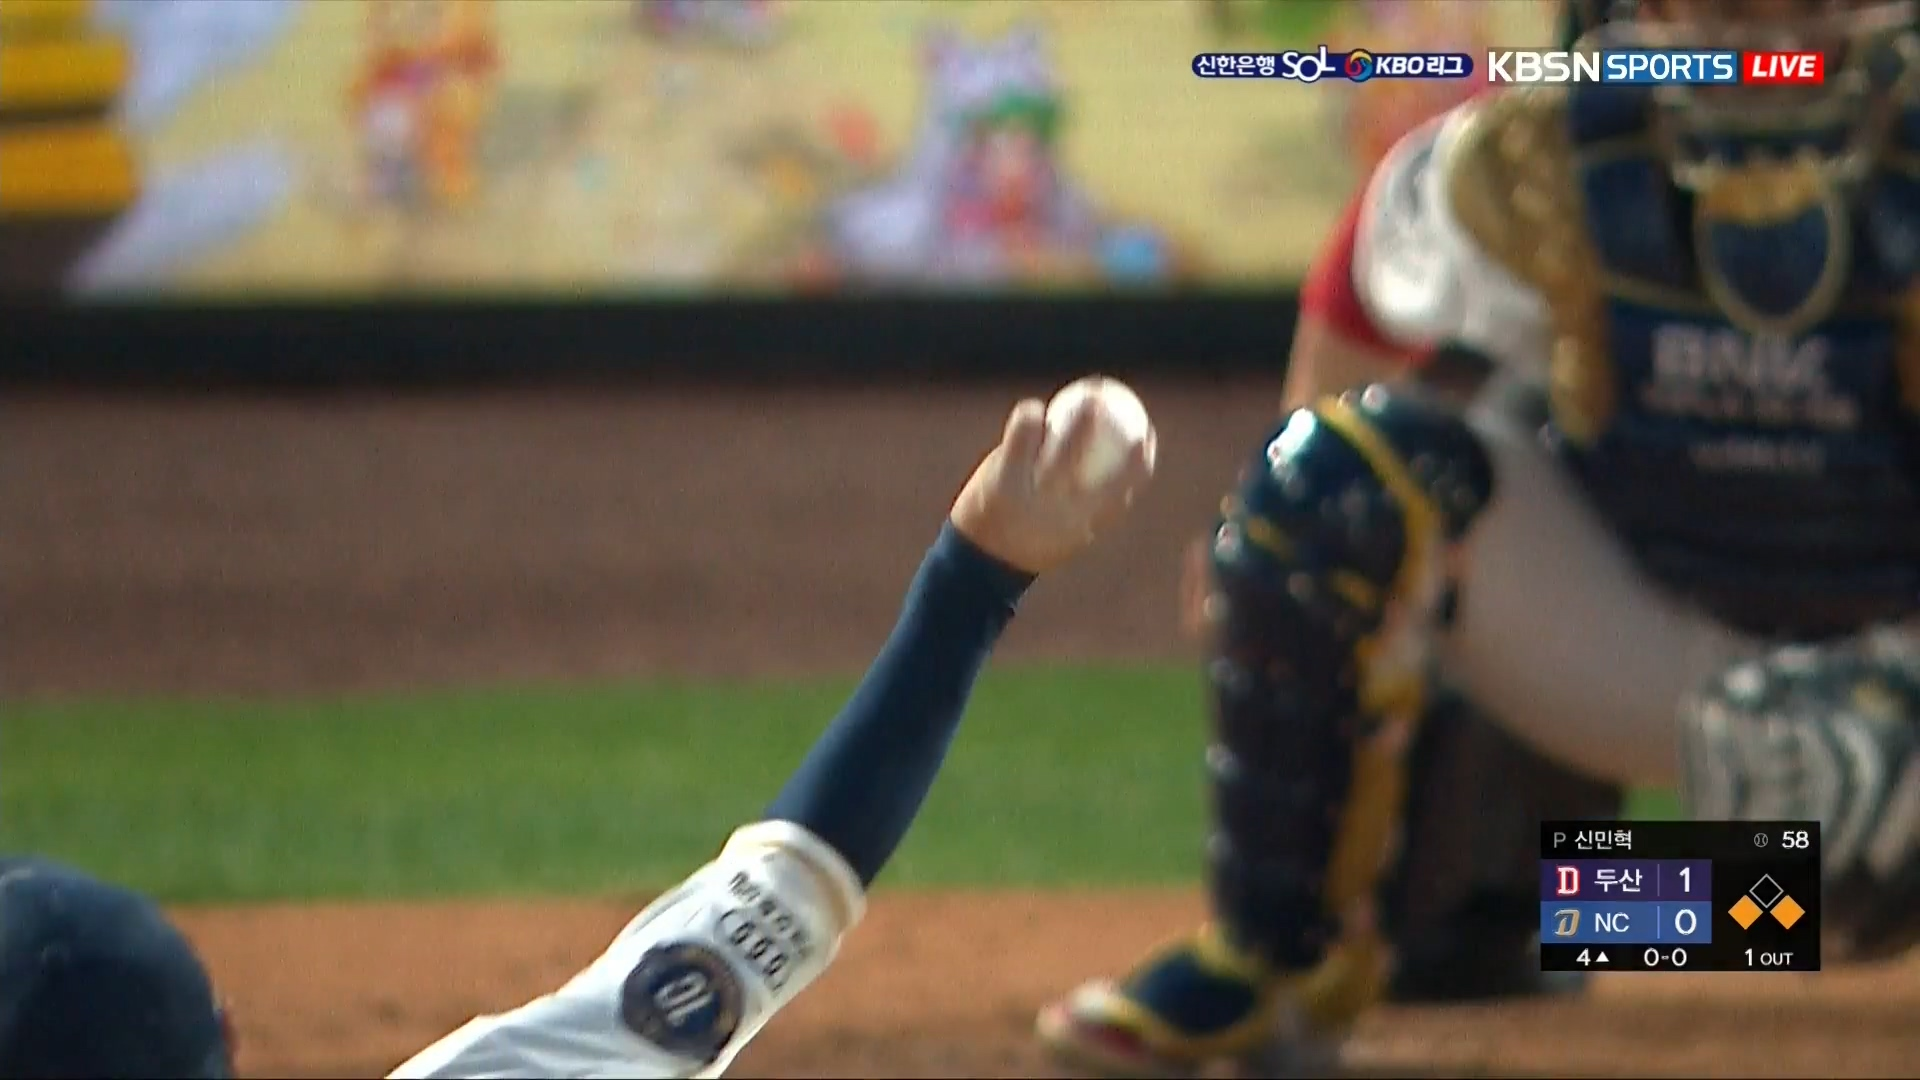zoomin_hand: (713, 343, 1183, 942)
